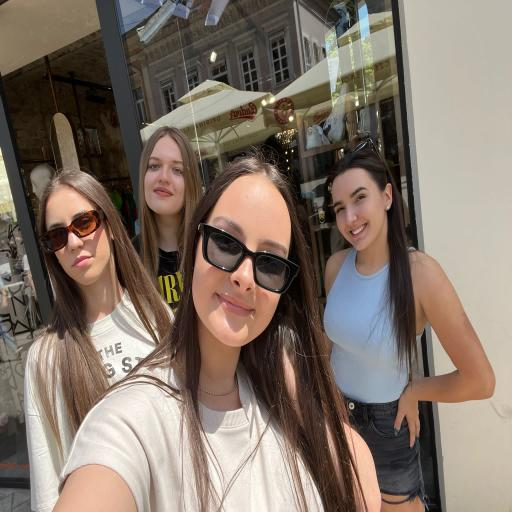marija: (209, 170, 292, 343)
masa: (42, 198, 112, 282)
